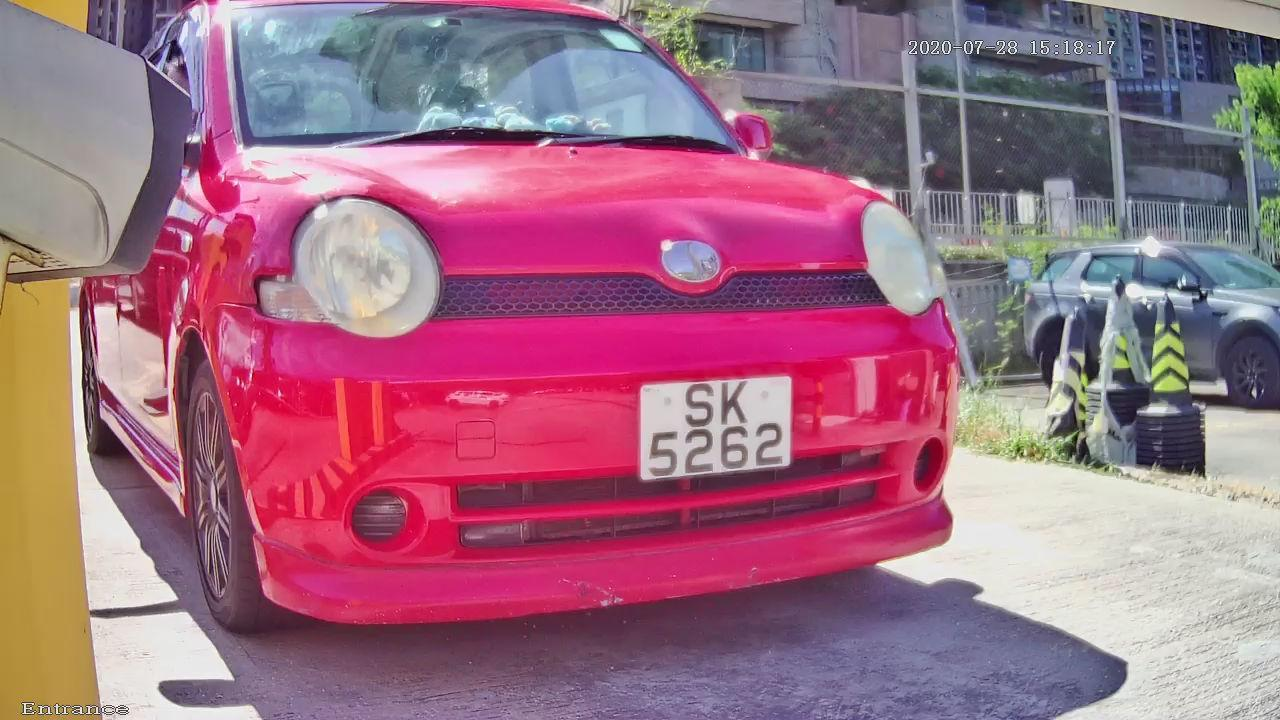privatecar: (35, 13, 1126, 708)
